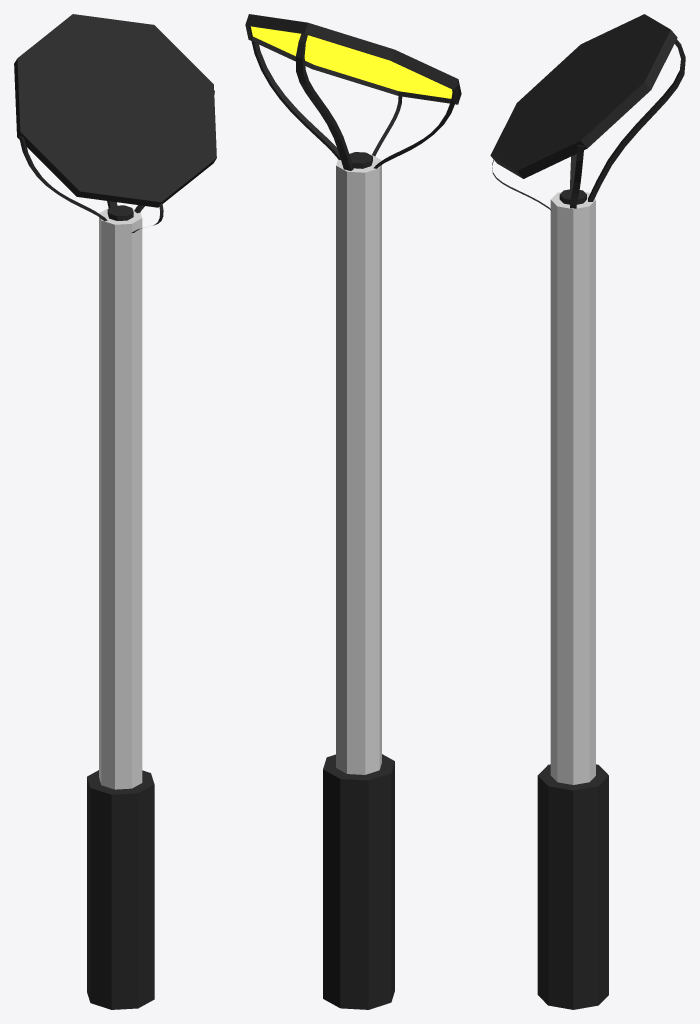
Rendered from Park_Lamppost.fbx.
3 views of the same model, side by side, from view 1: azimuth 30°, elevation 25°; view 2: azimuth 150°, elevation 25°; view 3: azimuth 270°, elevation 25° (orthographic). The views are drawn at different scales.
Parts seen in each view (by area): view 1: Park_lamppost; view 2: Park_lamppost; view 3: Park_lamppost.
Part boxes in pixels (x1,y1,x2,y2): Park_lamppost: (14,14,216,1009); Park_lamppost: (245,14,461,1009); Park_lamppost: (490,14,685,1009).
Size of the model in its own units: 0.9537 by 4.46 by 0.8172.
